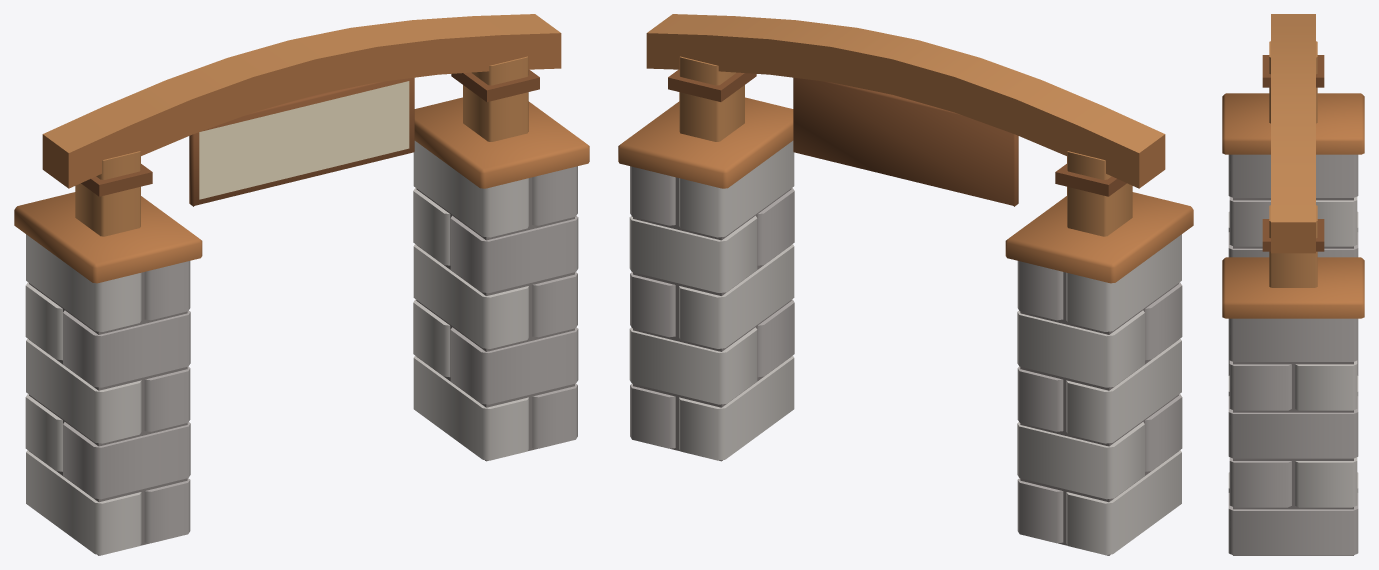
Rendered from entrance_arch.glb.
3 renders of one model, left to right at view 1: azimuth 30°, elevation 25°; view 2: azimuth 150°, elevation 25°; view 3: azimuth 270°, elevation 25°, orthographic. The views are drawn at different scales.
Visible parts, largest first — view 1: entrance_arch; view 2: entrance_arch; view 3: entrance_arch.
Part boxes in pixels (x1,y1,x2,y2): entrance_arch: (14,14,589,555); entrance_arch: (618,14,1193,555); entrance_arch: (1222,14,1364,555).
Bounding box in the file's own units: 6.16 × 5 × 1.76.
Materials: 2 (1 with a texture image).
